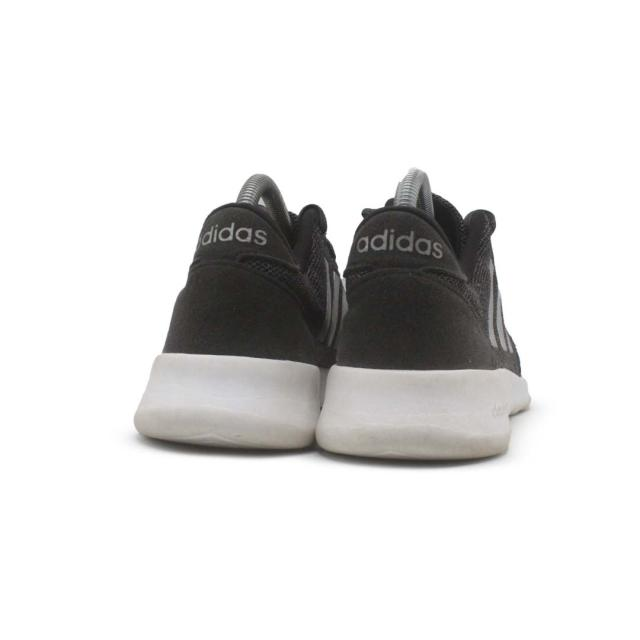heel: (329, 210, 487, 368), (164, 206, 312, 365)
midsole: (314, 365, 530, 455), (129, 351, 320, 446)
